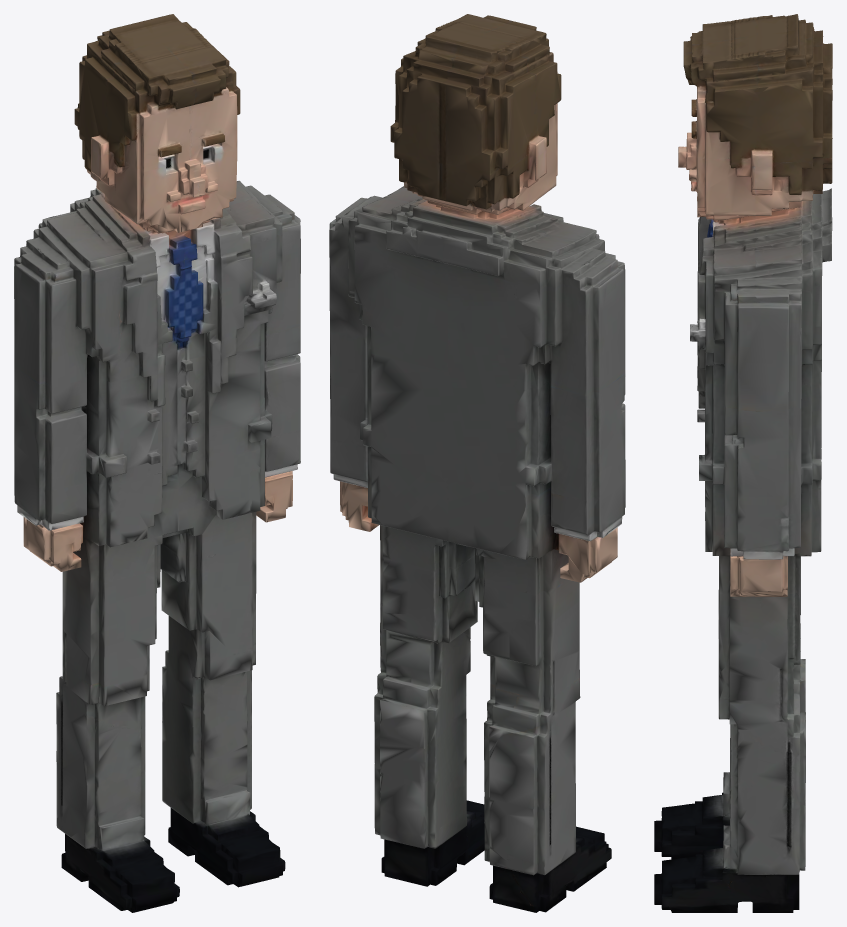
File: character.glb
The picture shows the model from 3 angles, left to right: view 1: azimuth 30°, elevation 25°; view 2: azimuth 150°, elevation 25°; view 3: azimuth 270°, elevation 25°; orthographic projection. The views are drawn at different scales.
Parts seen in each view (by area): view 1: geometry_0; view 2: geometry_0; view 3: geometry_0.
Part boxes in pixels (bbox=[...]): geometry_0: bbox=[14, 14, 300, 912]; geometry_0: bbox=[329, 14, 625, 912]; geometry_0: bbox=[654, 14, 832, 912].
Size of the model in its own units: 0.3327 by 1 by 0.1913.
Materials: 1 (1 with a texture image).
